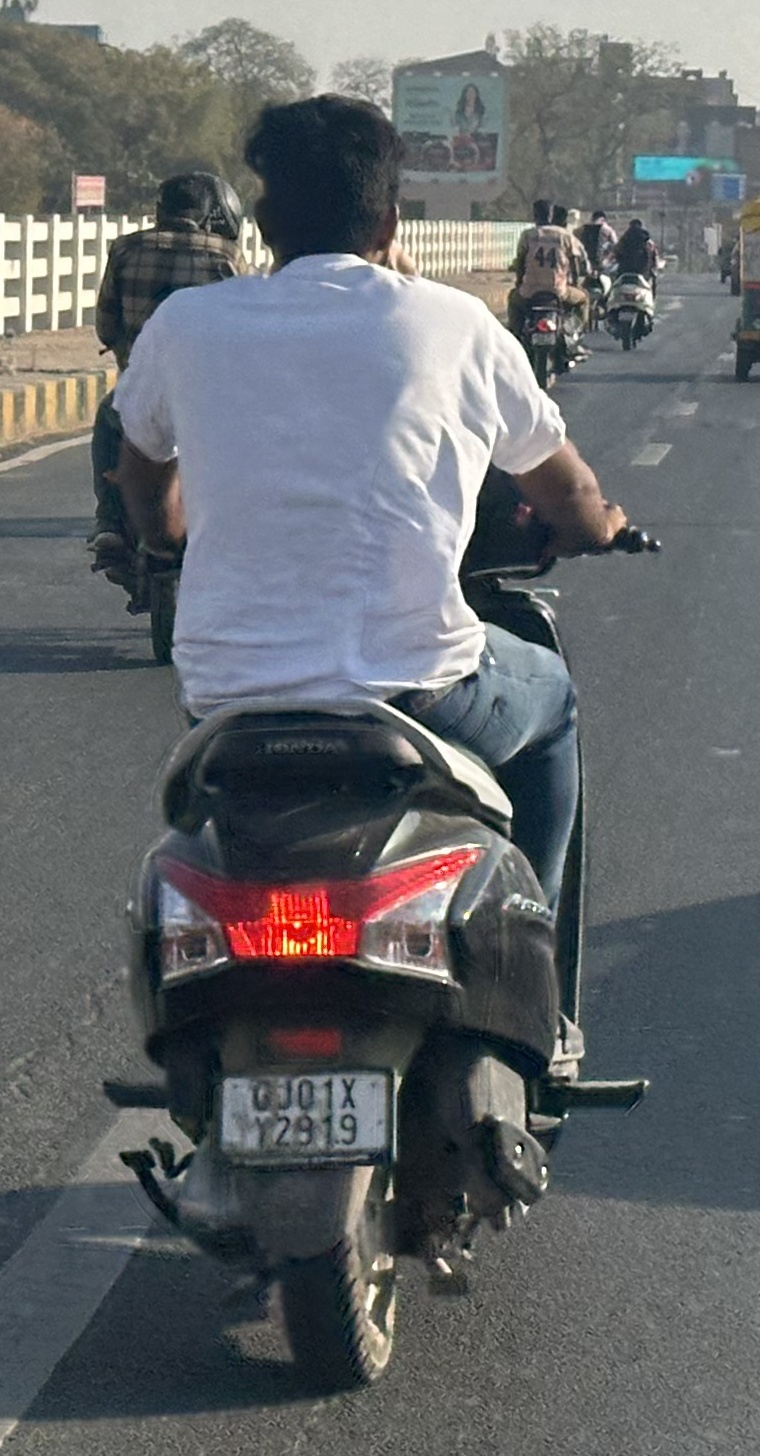BikeWithRider: (93, 71, 672, 1394), (70, 148, 284, 678), (497, 183, 597, 392), (599, 206, 670, 372)
NoHelmet: (229, 82, 430, 290), (138, 160, 229, 239)
